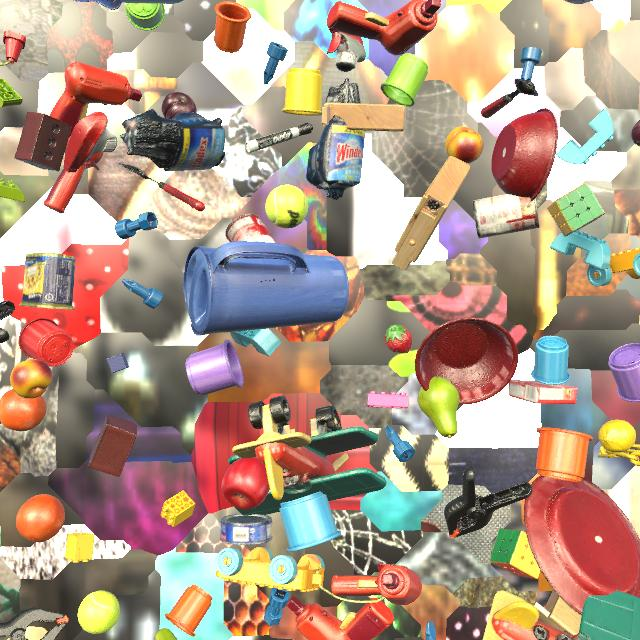ycb_005_tomato_soup_can: (472, 194, 539, 238), (225, 213, 275, 243)
ycb_007_tuna_fish_can: (220, 514, 272, 545)
ycb_009_gelatin_box: (508, 380, 578, 404)
ycb_010_potted_meat_can: (19, 253, 76, 310)
ycb_012_strawberry: (385, 324, 412, 354)
ycb_013_apple: (221, 457, 270, 510)
ycb_014_lemon: (598, 420, 636, 453)
ycb_015_peach: (10, 359, 52, 399), (445, 126, 483, 164)
ycb_016_pear: (418, 376, 459, 438), (154, 628, 178, 640)
ycb_017_orange: (16, 494, 65, 542), (0, 389, 47, 431)
ycb_018_plum: (162, 92, 196, 119), (631, 120, 640, 146)
